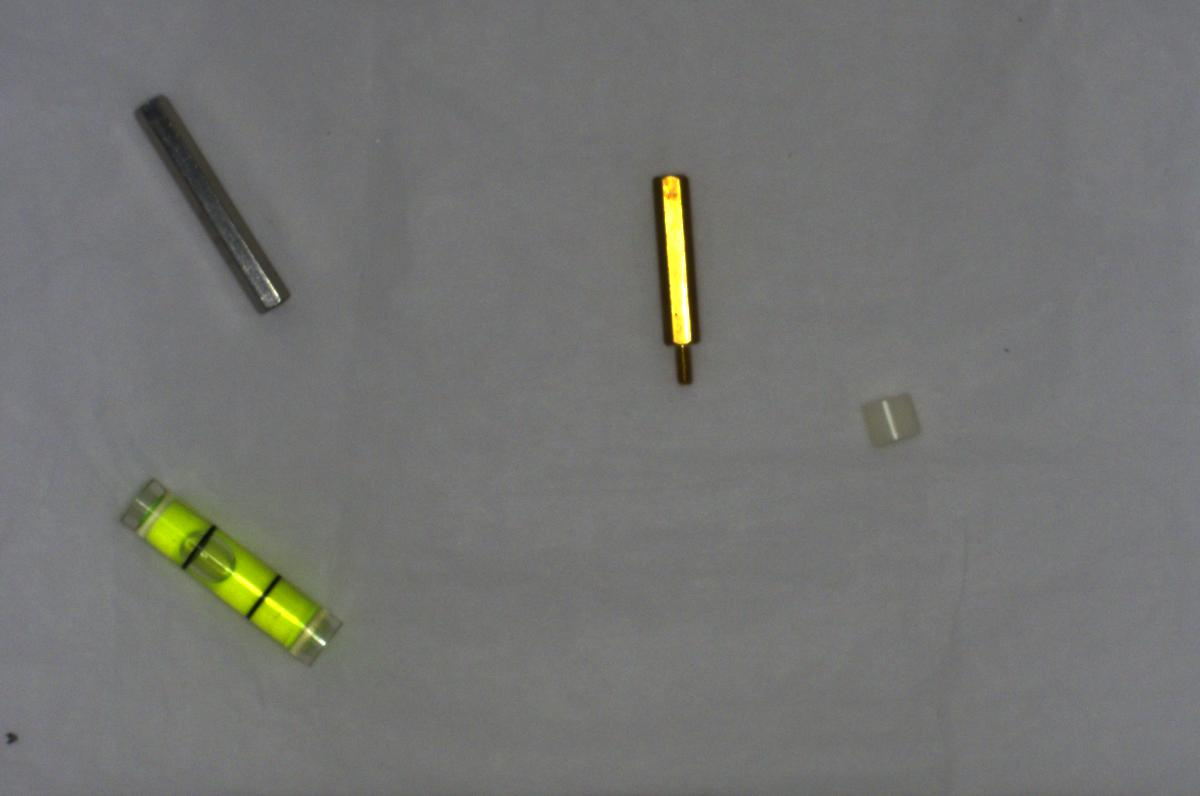Hexagon pillar: (639, 159, 715, 399)
Hexagonal steel column: (120, 80, 290, 328)
Horizontal bubble: (107, 468, 353, 683)
Plastic cushion pillar: (842, 380, 925, 453)
